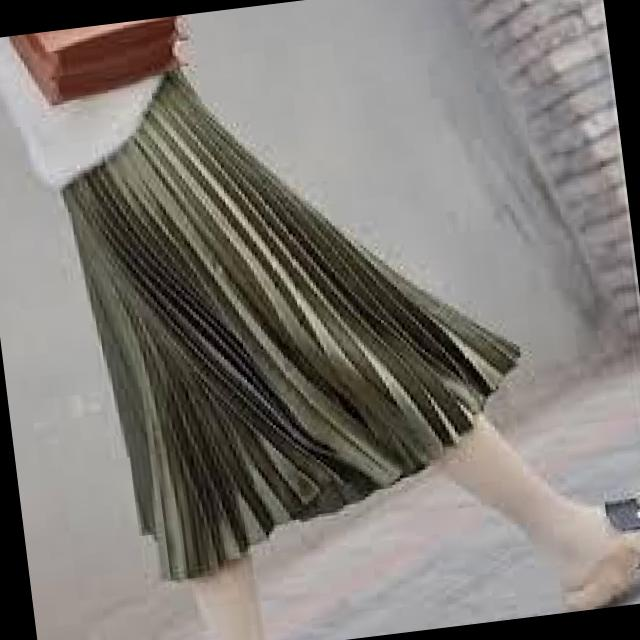skirt: (8, 22, 488, 612)
